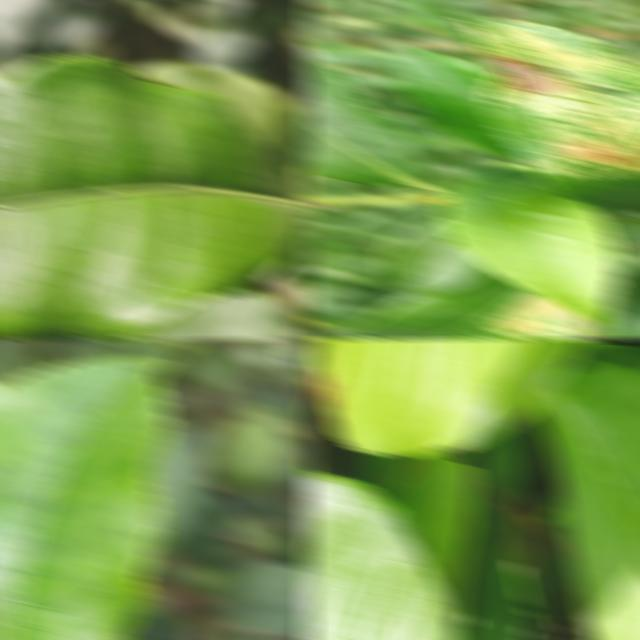Leaf: (0, 55, 312, 340), (0, 356, 173, 640), (462, 18, 640, 212), (309, 338, 586, 456), (533, 363, 640, 640), (436, 178, 622, 322), (302, 472, 461, 640), (133, 60, 305, 184), (302, 43, 429, 186), (347, 270, 591, 340), (392, 47, 524, 158), (114, 287, 302, 340), (380, 214, 489, 291), (457, 522, 528, 640), (209, 559, 312, 640), (146, 425, 213, 549), (208, 407, 292, 492), (456, 167, 550, 231), (471, 420, 531, 504), (472, 483, 505, 540)
